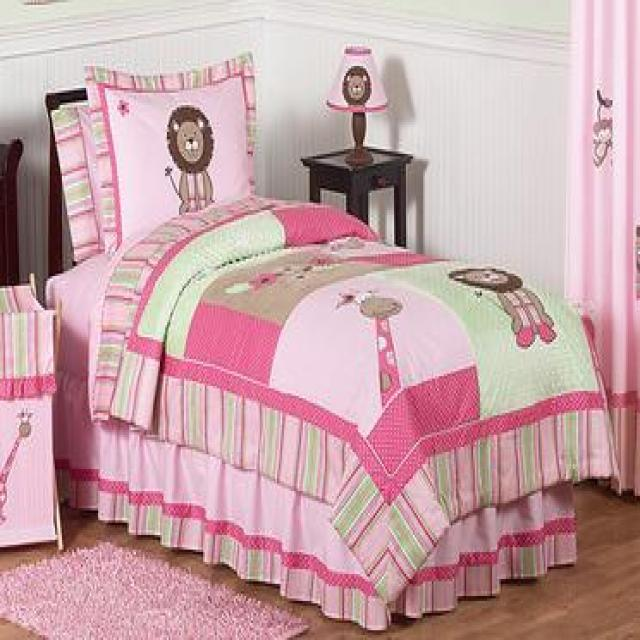bed: (41, 51, 620, 630)
